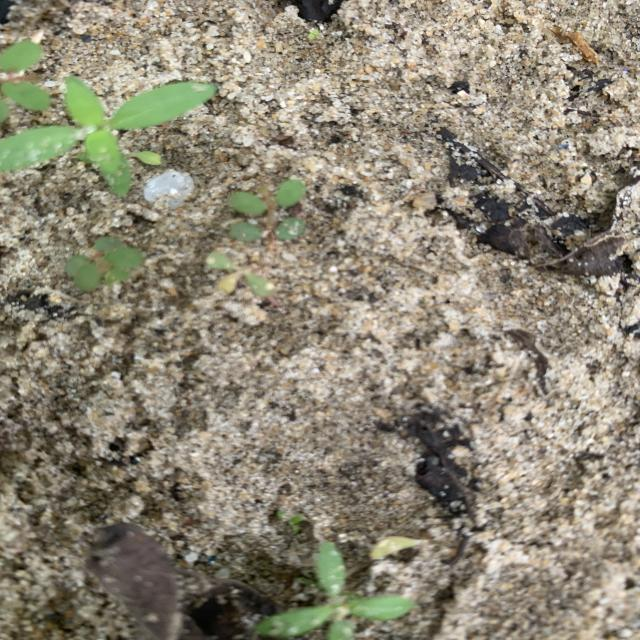weed: (1, 78, 216, 193), (258, 543, 414, 639), (207, 179, 304, 306), (66, 237, 144, 291)
